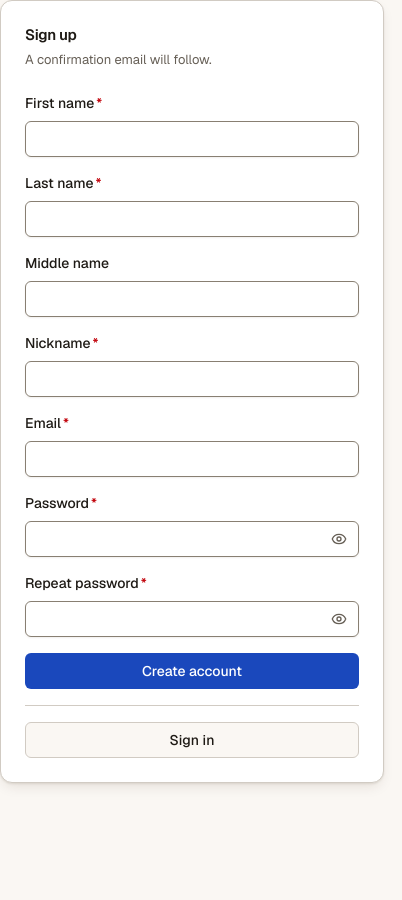
Test case: the registration form asks for a nickname › refuses to submit an empty nickname
The width and height of the screenshot is (402, 900).
Click the button "Create account". click: x=192, y=671
box: x1=25 y1=653 x2=359 y2=689
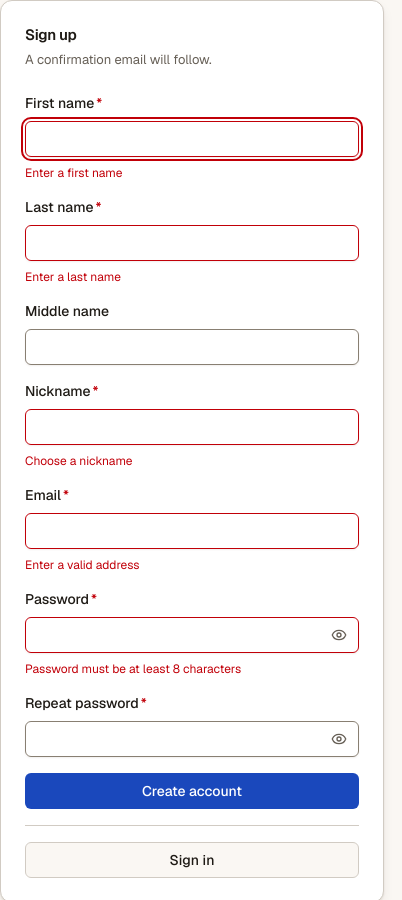
expect the message "Choose a nickname" is shown: met, box x1=25 y1=453 x2=132 y2=469
